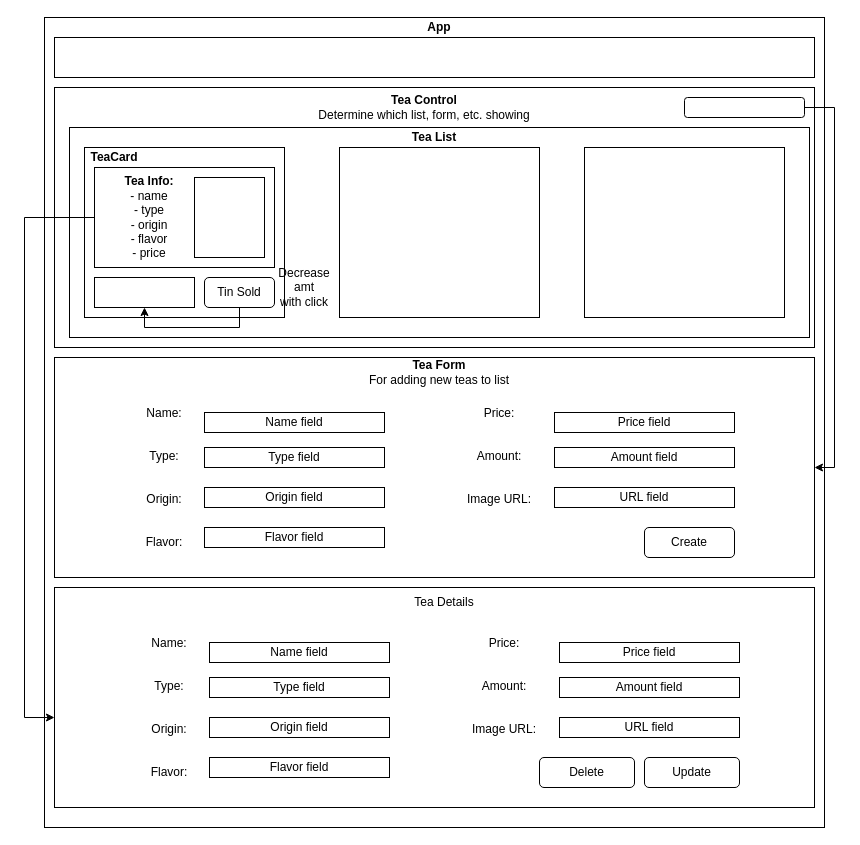
Image size: 860x845. Some labels were removed from this diagram. Here are the shapes that lost their labels. From the top down, the box of each, then its label:
(54, 36, 814, 78): Header
(684, 96, 804, 118): Add Tea
(194, 176, 264, 258): image
(94, 276, 194, 308): amount
